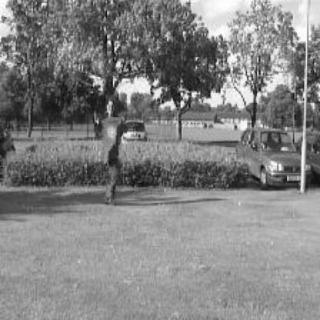other: (96, 112, 130, 162)
